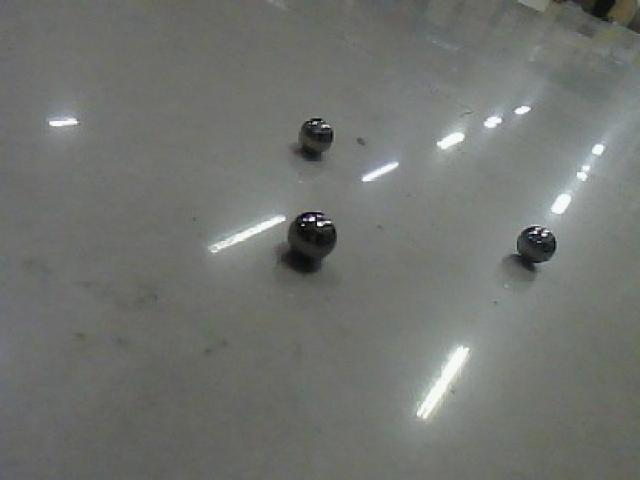steel-ball: (271, 189, 335, 263), (283, 89, 342, 160), (503, 211, 559, 266)
